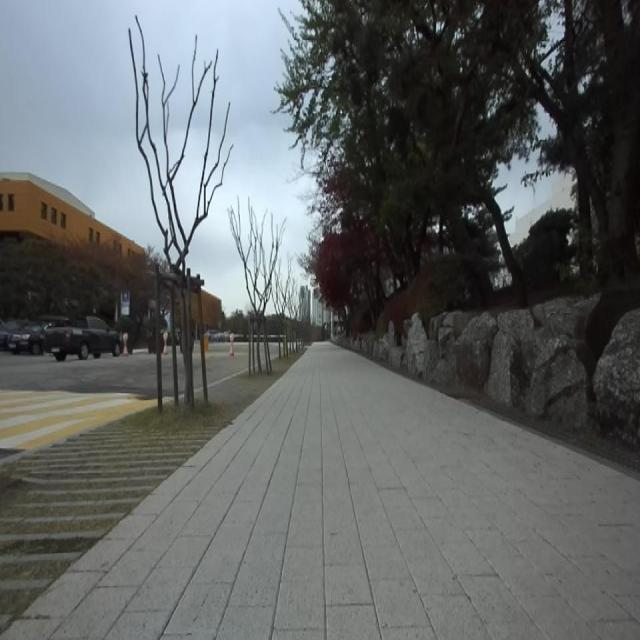sidewalk: (4, 342, 640, 639)
